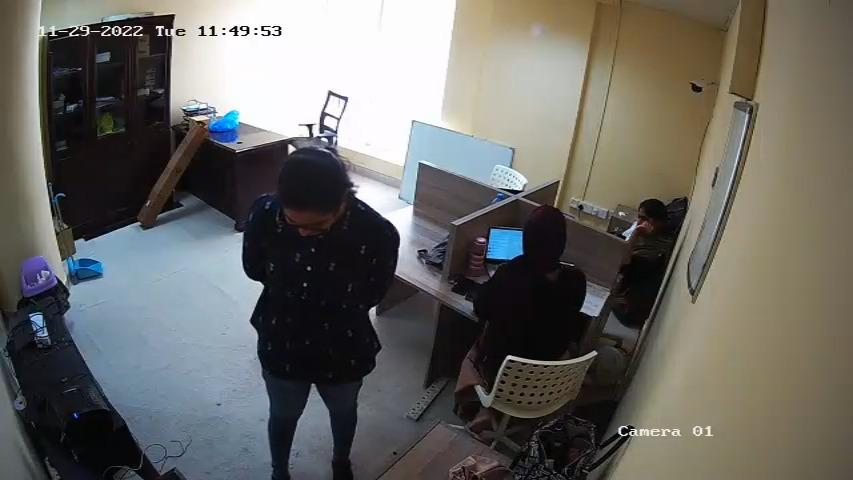no_apron: (250, 239, 358, 399)
